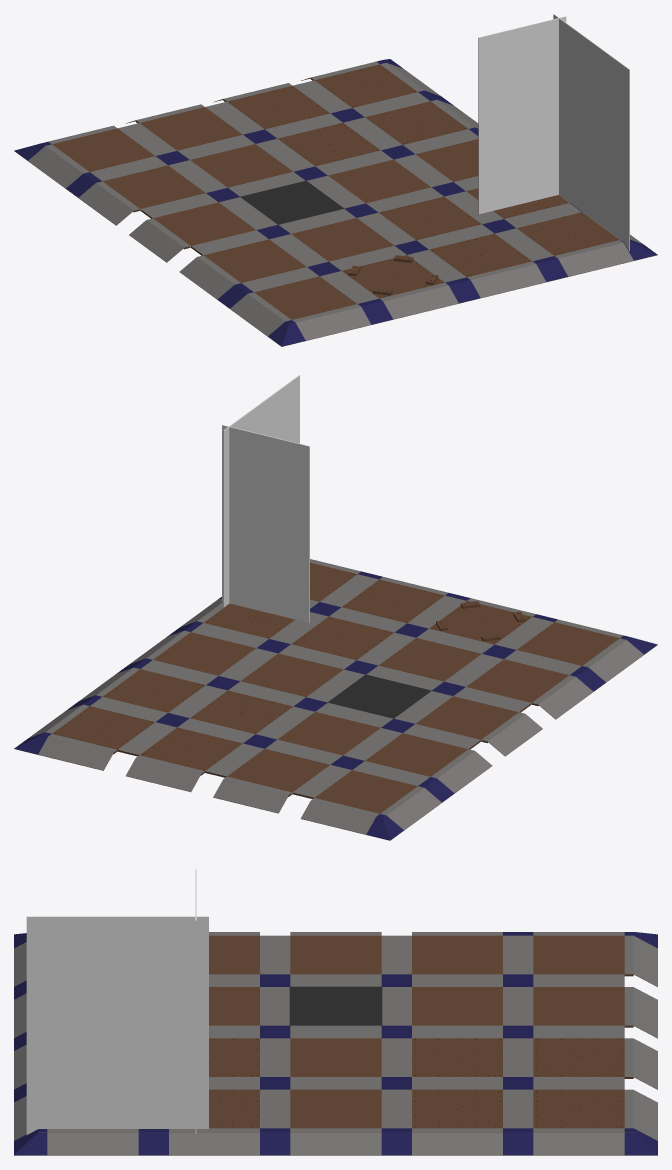
Rendered from floor_irb6640_collision.dae.
3 renders of one model, top to bottom at view 1: azimuth 30°, elevation 25°; view 2: azimuth 150°, elevation 25°; view 3: azimuth 270°, elevation 25°, orthographic. The views are drawn at different scales.
Visible parts, largest first — view 1: node, Cube.001, Cube, Plane; view 2: node, Cube.001, Cube, Plane; view 3: node, Cube, Plane, Cube.001.
Boxes of the visible parts, x1=… form: node: x1=14, y1=59, x2=657, y2=346; Cube.001: x1=478, y1=16, x2=566, y2=214; Cube: x1=553, y1=14, x2=629, y2=250; Plane: x1=240, y1=180, x2=344, y2=224; node: x1=14, y1=559, x2=657, y2=840; Cube.001: x1=222, y1=425, x2=309, y2=622; Cube: x1=223, y1=375, x2=299, y2=606; Plane: x1=327, y1=674, x2=431, y2=718; node: x1=14, y1=932, x2=657, y2=1155; Cube: x1=26, y1=916, x2=208, y2=1134; Plane: x1=289, y1=986, x2=382, y2=1025; Cube.001: x1=195, y1=869, x2=196, y2=1133.
Bounding box in the file's own units: 4.3 × 5.3 × 2.05.
